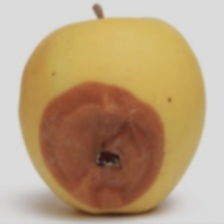apple: (41, 46, 184, 191)
